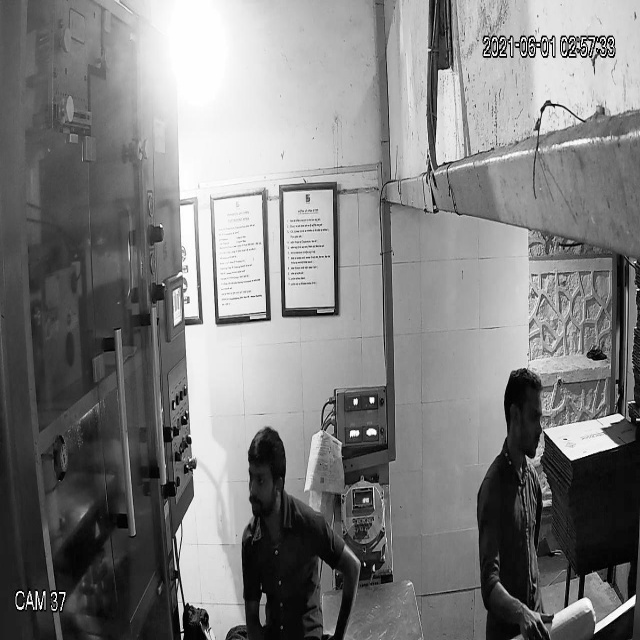Sin_gafas: (244, 467, 286, 497)
